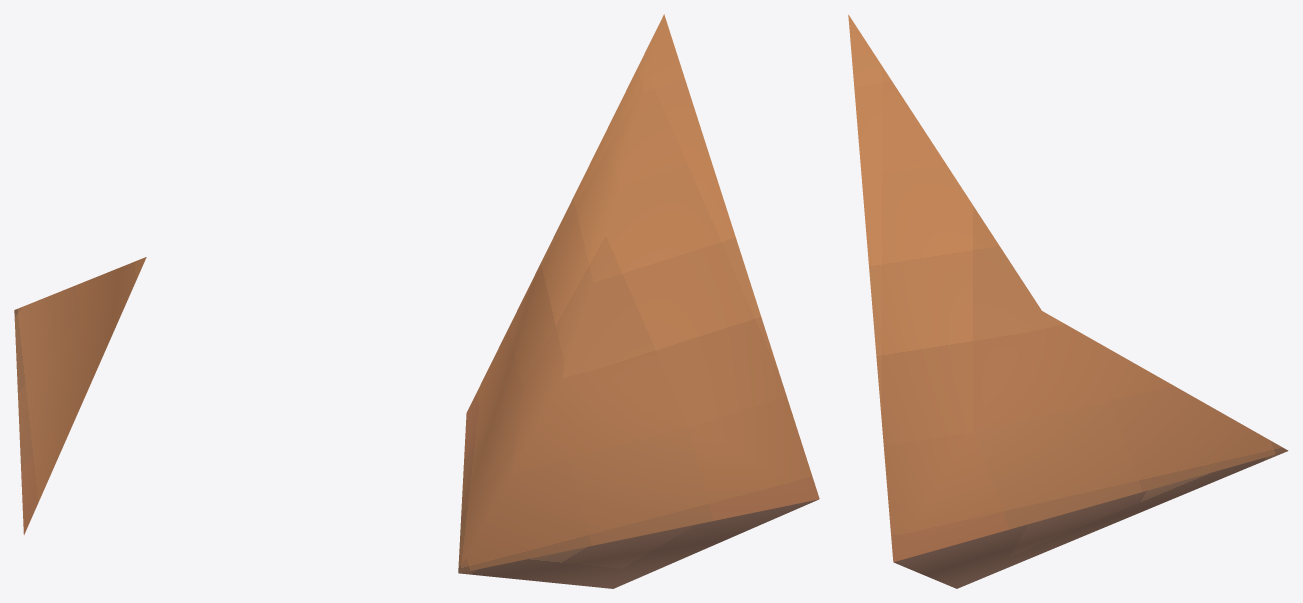
The model's file is nose_pointy.glb.
3 renders of one model, left to right at view 1: azimuth 30°, elevation 25°; view 2: azimuth 150°, elevation 25°; view 3: azimuth 270°, elevation 25°, orthographic. The views are drawn at different scales.
Visible parts, largest first — view 1: nose_pointy; view 2: nose_pointy; view 3: nose_pointy.
Part boxes in pixels (x1=…): nose_pointy: x1=14, y1=257, x2=146, y2=534; nose_pointy: x1=458, y1=14, x2=819, y2=588; nose_pointy: x1=848, y1=14, x2=1288, y2=588.
Bounding box in the file's own units: 0.0331 × 0.0482 × 0.0334.
1 material, 1 textured.
